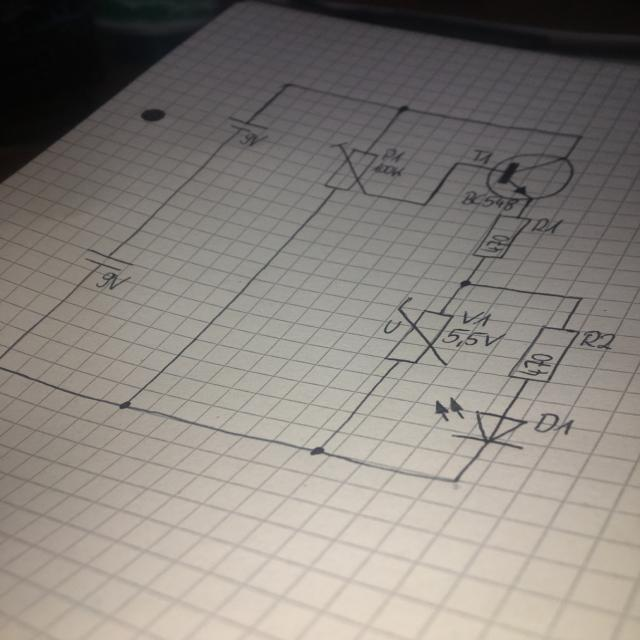diode: (433, 396, 529, 450)
junction: (307, 445, 326, 456), (394, 102, 410, 114), (457, 278, 472, 288), (280, 80, 296, 89), (448, 475, 462, 484), (118, 400, 131, 409), (450, 160, 463, 168), (575, 294, 586, 302), (0, 351, 4, 373), (573, 132, 584, 140), (418, 201, 429, 207)
resistor: (506, 324, 581, 384), (322, 141, 378, 194), (471, 212, 532, 260)
source: (82, 246, 134, 271), (224, 115, 269, 132)
text: (441, 327, 506, 347), (460, 190, 518, 211), (531, 411, 575, 436), (516, 352, 554, 376), (579, 329, 615, 351), (93, 271, 132, 290), (460, 308, 492, 328), (479, 233, 510, 253), (530, 216, 564, 234), (371, 162, 406, 177), (238, 132, 268, 146), (380, 147, 404, 163), (471, 148, 492, 164), (382, 318, 402, 334)
transistor: (485, 152, 575, 200)
